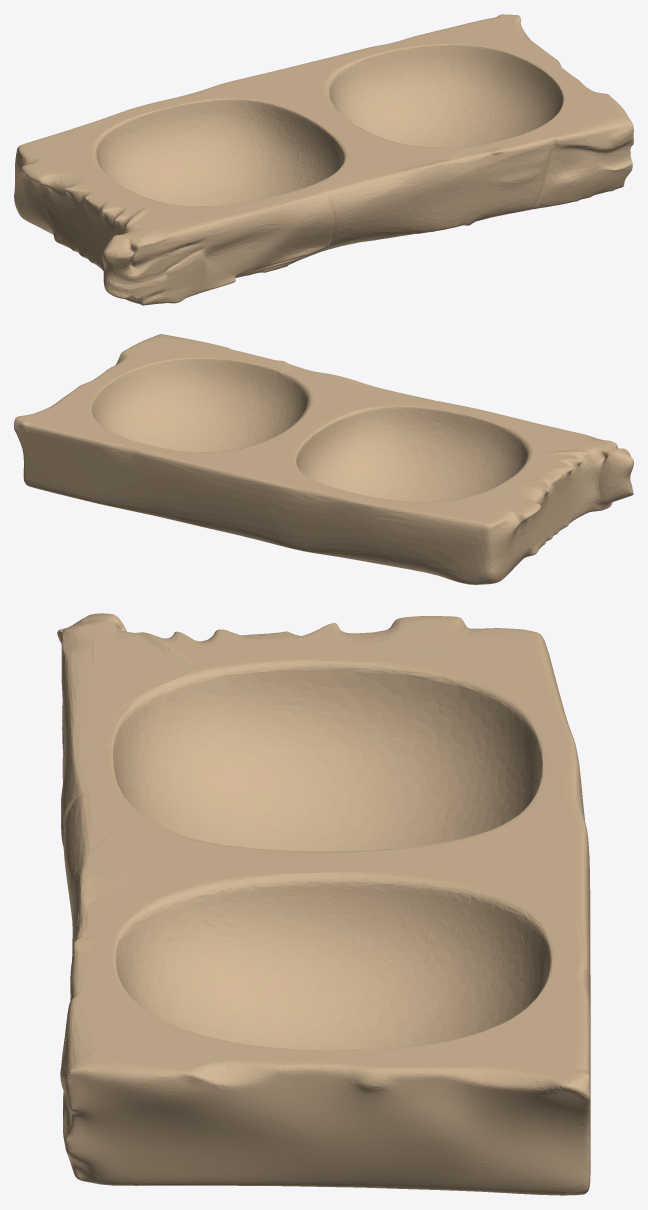
The model's file is sink-rectangular.glb.
3 views of the same model, one above another, from view 1: azimuth 30°, elevation 25°; view 2: azimuth 150°, elevation 25°; view 3: azimuth 270°, elevation 25° (orthographic). The views are drawn at different scales.
Size of the model in its own units: 1.1 by 0.1416 by 0.5069.
